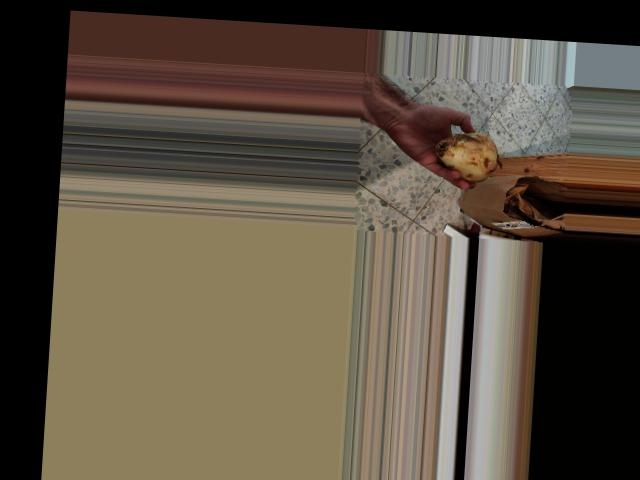onion: (428, 125, 502, 186)
